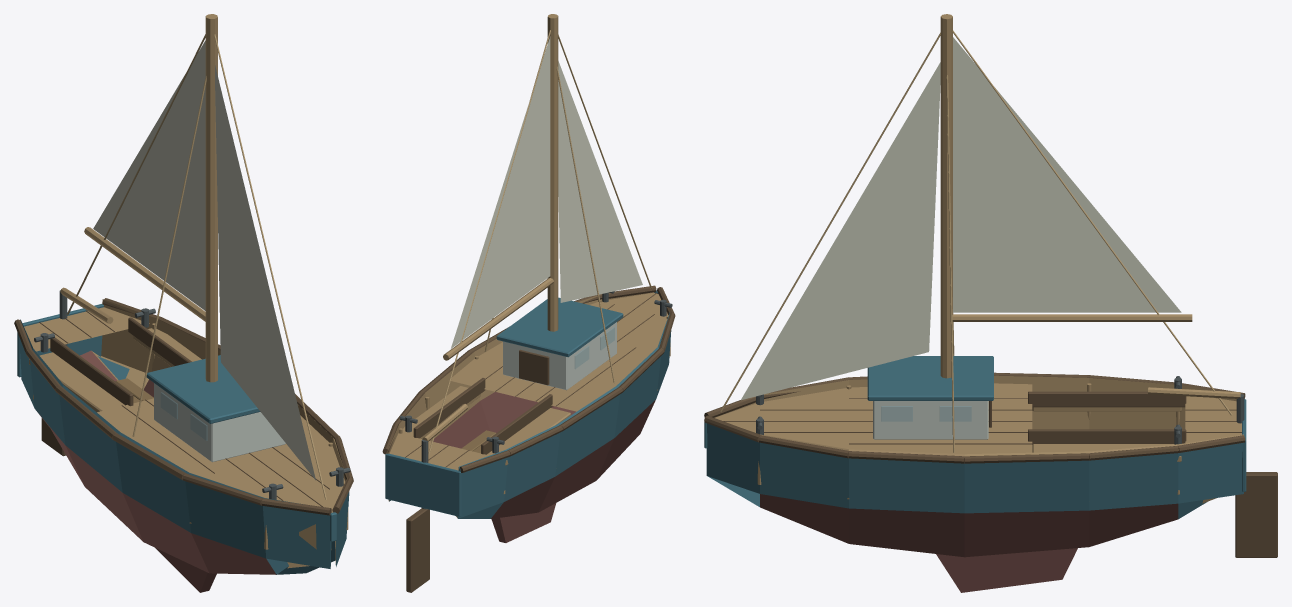
The model's file is sailboat.glb.
3 views of the same model, side by side, from view 1: azimuth 30°, elevation 25°; view 2: azimuth 150°, elevation 25°; view 3: azimuth 270°, elevation 25° (orthographic). The views are drawn at different scales.
Parts seen in each view (by area): view 1: VesselRoot_mesh, Mainsail_mesh, Jib_mesh, Boom_mesh, Rudder_mesh; view 2: VesselRoot_mesh, Mainsail_mesh, Jib_mesh, Rudder_mesh, Boom_mesh; view 3: VesselRoot_mesh, Mainsail_mesh, Jib_mesh, Rudder_mesh, Boom_mesh.
Boxes of the visible parts, x1=… form: VesselRoot_mesh: x1=14, y1=14, x2=353, y2=592; Mainsail_mesh: x1=93, y1=40, x2=205, y2=310; Jib_mesh: x1=215, y1=65, x2=315, y2=480; Boom_mesh: x1=84, y1=227, x2=205, y2=321; Rudder_mesh: x1=41, y1=287, x2=113, y2=456; VesselRoot_mesh: x1=382, y1=14, x2=675, y2=542; Mainsail_mesh: x1=451, y1=36, x2=550, y2=348; Jib_mesh: x1=558, y1=61, x2=642, y2=302; Rudder_mesh: x1=406, y1=404, x2=467, y2=592; Boom_mesh: x1=443, y1=278, x2=553, y2=360; VesselRoot_mesh: x1=704, y1=14, x2=1246, y2=592; Mainsail_mesh: x1=953, y1=37, x2=1181, y2=312; Jib_mesh: x1=741, y1=62, x2=940, y2=400; Rudder_mesh: x1=1147, y1=387, x2=1277, y2=557; Boom_mesh: x1=952, y1=314, x2=1192, y2=321.
Bounding box in the file's own units: 1.16 × 3.56 × 3.22.
